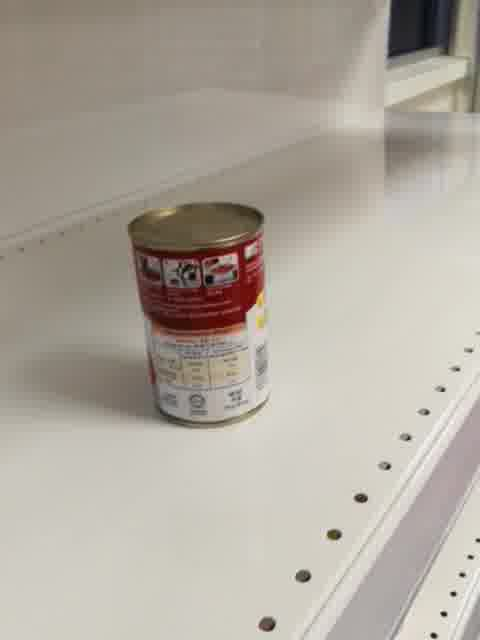tomatosoup: (126, 197, 271, 432)
